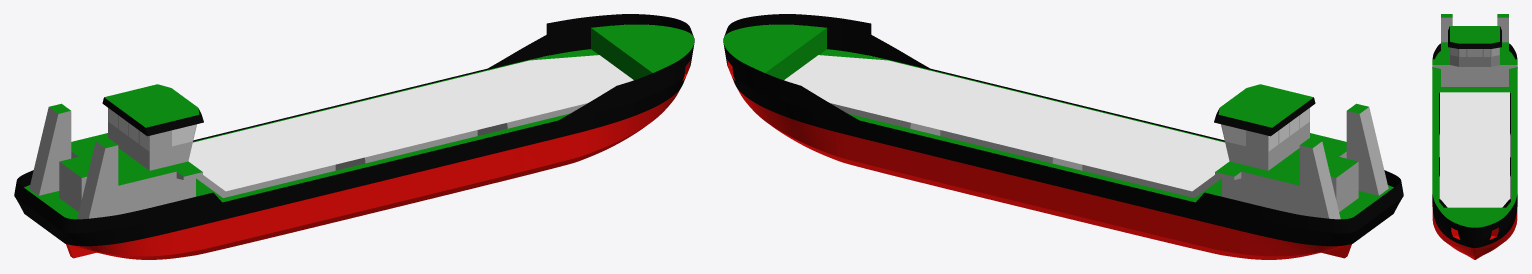
File: tanker_hull_only.glb
3 renders of one model, left to right at view 1: azimuth 30°, elevation 25°; view 2: azimuth 150°, elevation 25°; view 3: azimuth 270°, elevation 25°, orthographic. The views are drawn at different scales.
Parts seen in each view (by area): view 1: Cargo Hold.001_12, Hull Above DWL_4, Hull Below DWL_5, A Deck.001_7, A Deck_1, Main Deck_6, B Deck.001_10, A Deck.003_9, Cargo Hold.002_13, Plane.002_17, A Deck.002_8, Plane.003_18 (+2 smaller); view 2: Cargo Hold.001_12, Hull Above DWL_4, Hull Below DWL_5, A Deck.001_7, A Deck_1, Main Deck_6, B Deck.001_10, A Deck.003_9, Cargo Hold.002_13, Plane.002_17, A Deck.002_8, Plane.003_18 (+2 smaller); view 3: Cargo Hold.001_12, Main Deck_6, A Deck.001_7, Hull Above DWL_4, A Deck_1, B Deck.001_10, Hull Below DWL_5, A Deck.003_9, Plane_15, Plane.001_16, B Deck.002_11, Cargo Hold_3 (+2 smaller).
Boxes of the visible parts, left/top/right/bottom form: Cargo Hold.001_12: left=188, top=55, right=633, bottom=191; Hull Above DWL_4: left=14, top=28, right=694, bottom=246; Hull Below DWL_5: left=66, top=88, right=680, bottom=259; A Deck.001_7: left=29, top=107, right=202, bottom=219; A Deck_1: left=591, top=24, right=694, bottom=80; Main Deck_6: left=24, top=49, right=661, bottom=219; B Deck.001_10: left=104, top=84, right=199, bottom=127; A Deck.003_9: left=49, top=103, right=202, bottom=185; Cargo Hold.002_13: left=196, top=103, right=587, bottom=197; Plane.002_17: left=108, top=108, right=196, bottom=170; A Deck.002_8: left=546, top=14, right=693, bottom=36; Plane.003_18: left=108, top=108, right=196, bottom=151; Cargo Hold.001_12: left=784, top=55, right=1229, bottom=191; Hull Above DWL_4: left=723, top=28, right=1403, bottom=246; Hull Below DWL_5: left=737, top=88, right=1351, bottom=259; A Deck.001_7: left=1215, top=107, right=1388, bottom=219; A Deck_1: left=723, top=24, right=826, bottom=80; Main Deck_6: left=756, top=49, right=1393, bottom=219; B Deck.001_10: left=1218, top=84, right=1313, bottom=127; A Deck.003_9: left=1215, top=103, right=1368, bottom=185; Cargo Hold.002_13: left=830, top=103, right=1221, bottom=197; Plane.002_17: left=1221, top=108, right=1309, bottom=170; A Deck.002_8: left=724, top=14, right=871, bottom=36; Plane.003_18: left=1221, top=108, right=1309, bottom=151; Cargo Hold.001_12: left=1440, top=92, right=1509, bottom=207; Main Deck_6: left=1432, top=51, right=1517, bottom=227; A Deck.001_7: left=1432, top=17, right=1517, bottom=86; Hull Above DWL_4: left=1432, top=43, right=1517, bottom=247; A Deck_1: left=1438, top=207, right=1511, bottom=227; B Deck.001_10: left=1450, top=26, right=1499, bottom=43; Hull Below DWL_5: left=1432, top=203, right=1517, bottom=259; A Deck.003_9: left=1432, top=14, right=1517, bottom=64; Plane_15: left=1450, top=48, right=1499, bottom=66; Plane.001_16: left=1450, top=47, right=1499, bottom=56; B Deck.002_11: left=1448, top=26, right=1501, bottom=48; Cargo Hold_3: left=1439, top=92, right=1510, bottom=207.
Size of the model in its own units: 50.47 by 9.75 by 9.5.
